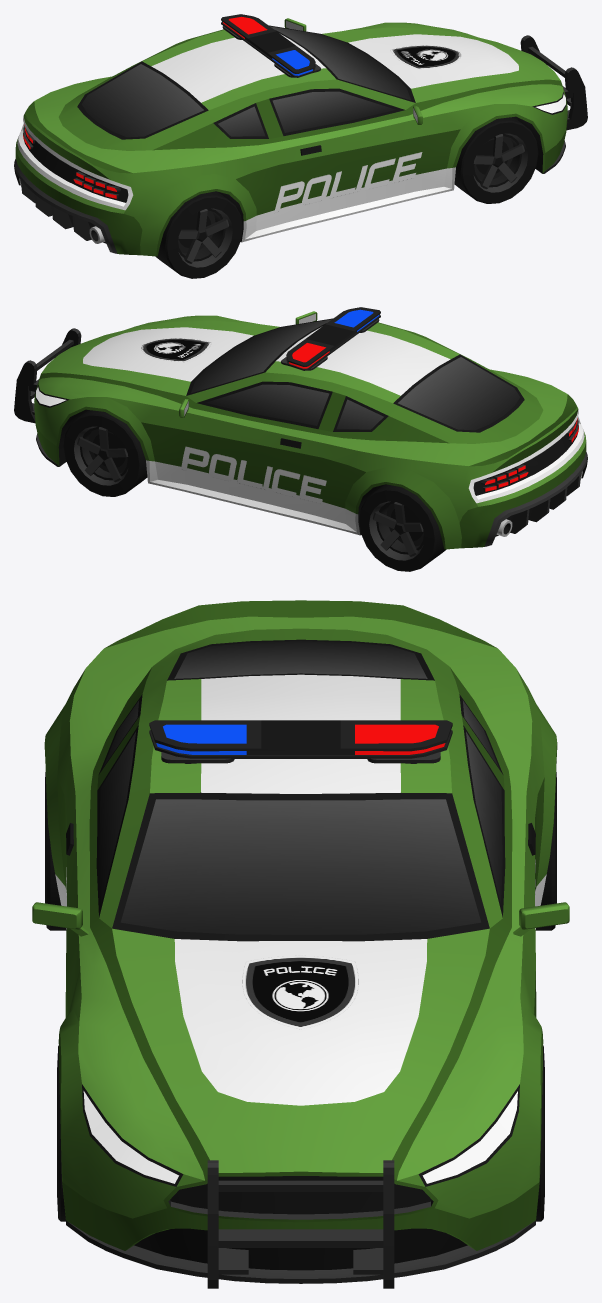
File: Emergency_026.glb
3 renders of one model, top to bottom at view 1: azimuth 30°, elevation 25°; view 2: azimuth 150°, elevation 25°; view 3: azimuth 270°, elevation 25°, orthographic. The views are drawn at different scales.
Parts seen in each view (by area): view 1: Emergency_026, wheel_1_Emergency_026_Wheel_1R, wheel_3_Emergency_026_Wheel_2R; view 2: Emergency_026, wheel_0_Emergency_026_Wheel_1L, wheel_2_Emergency_026_Wheel_2L; view 3: Emergency_026, wheel_2_Emergency_026_Wheel_2L, wheel_3_Emergency_026_Wheel_2R.
Boxes of the visible parts, x1,y1,x2,y2 form: Emergency_026: (14,14,587,256); wheel_1_Emergency_026_Wheel_1R: (454,117,538,203); wheel_3_Emergency_026_Wheel_2R: (155,191,242,278); Emergency_026: (14,307,587,549); wheel_0_Emergency_026_Wheel_1L: (63,410,147,496); wheel_2_Emergency_026_Wheel_2L: (359,484,446,571); Emergency_026: (32,600,569,1288); wheel_2_Emergency_026_Wheel_2L: (535,772,556,930); wheel_3_Emergency_026_Wheel_2R: (45,772,66,930).
Bounding box in the file's own units: 4.76 × 1.37 × 2.11.
3 materials, 3 textured.
